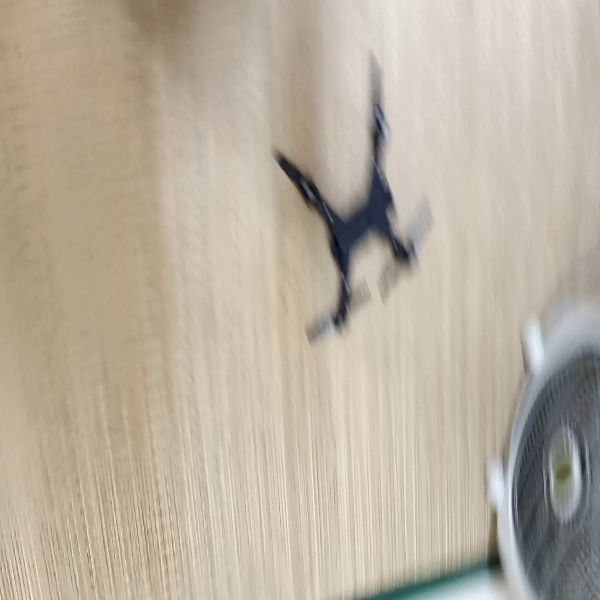drone: (271, 53, 443, 347)
